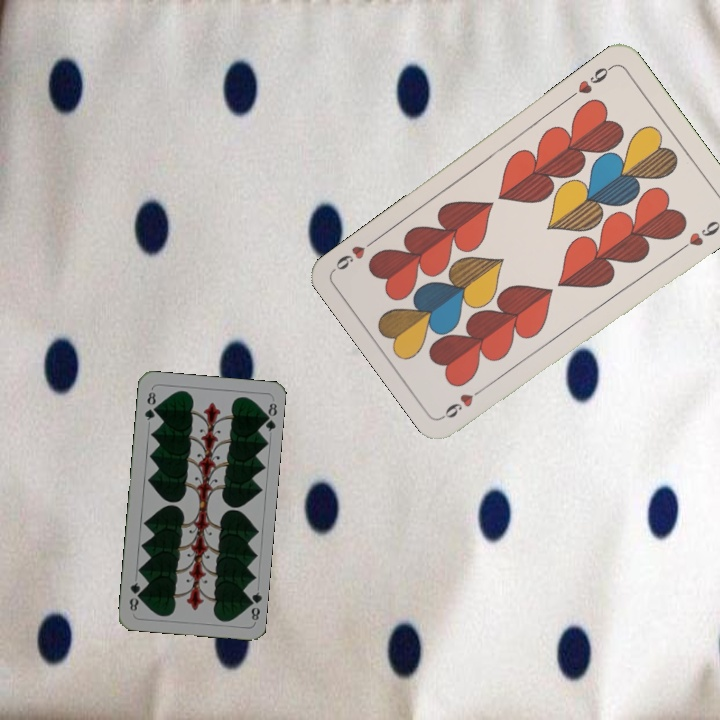G8: (243, 588, 264, 625), (140, 388, 159, 423)
H9: (565, 61, 616, 102), (439, 381, 491, 421)
